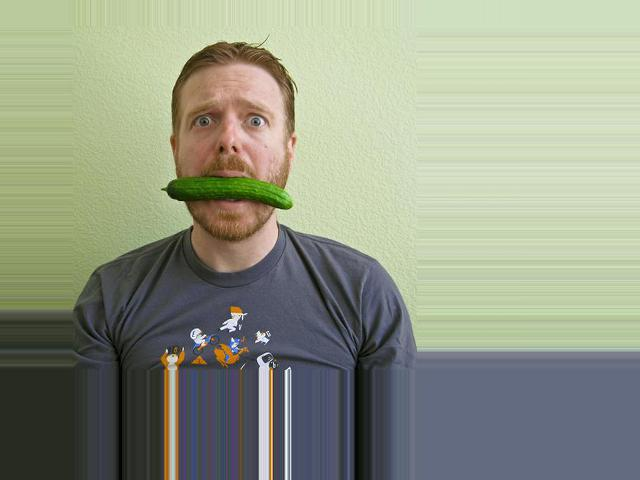cucumber: (161, 176, 294, 210)
